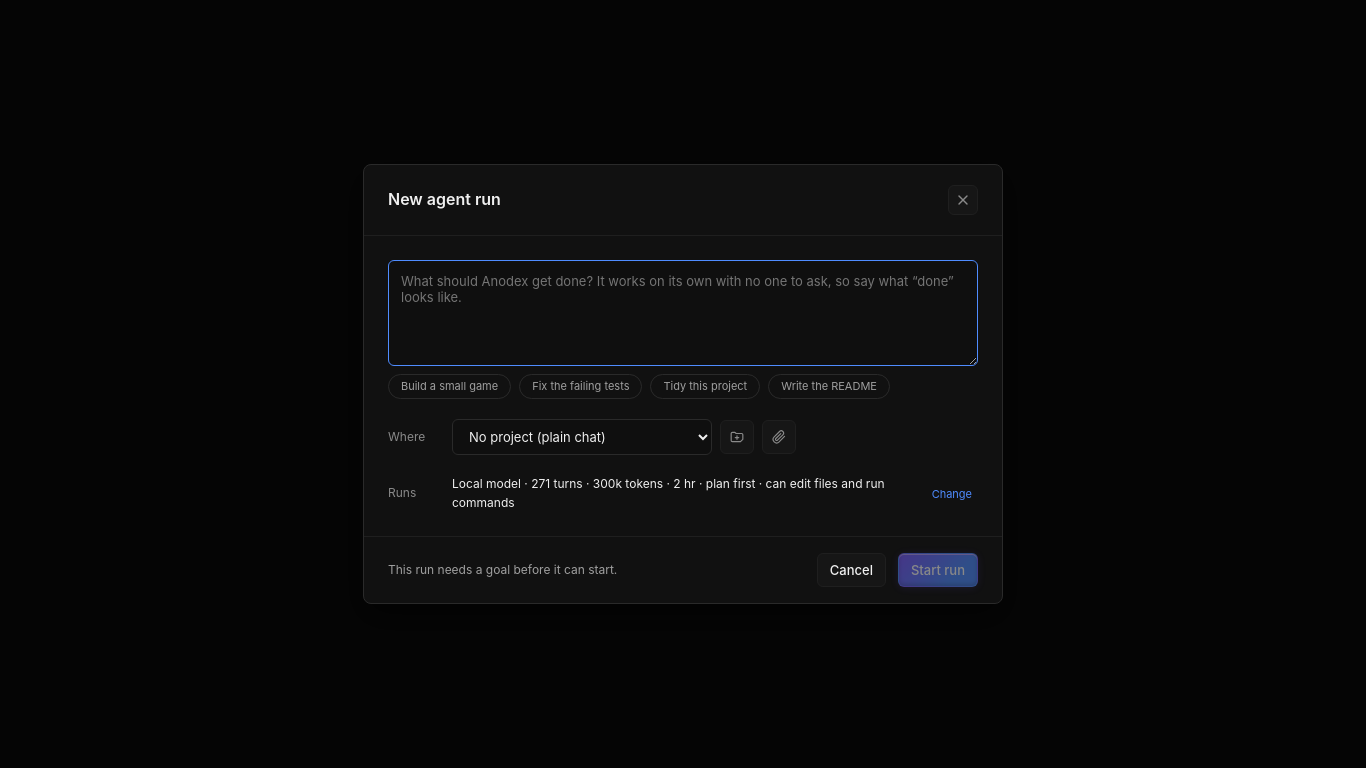
Test: why Start is unavailable › never blocks on a budget, because the sliders cannot leave range
Step 1. Click the button "Change" → (952, 494), box x1=926 y1=486 x2=978 y2=502
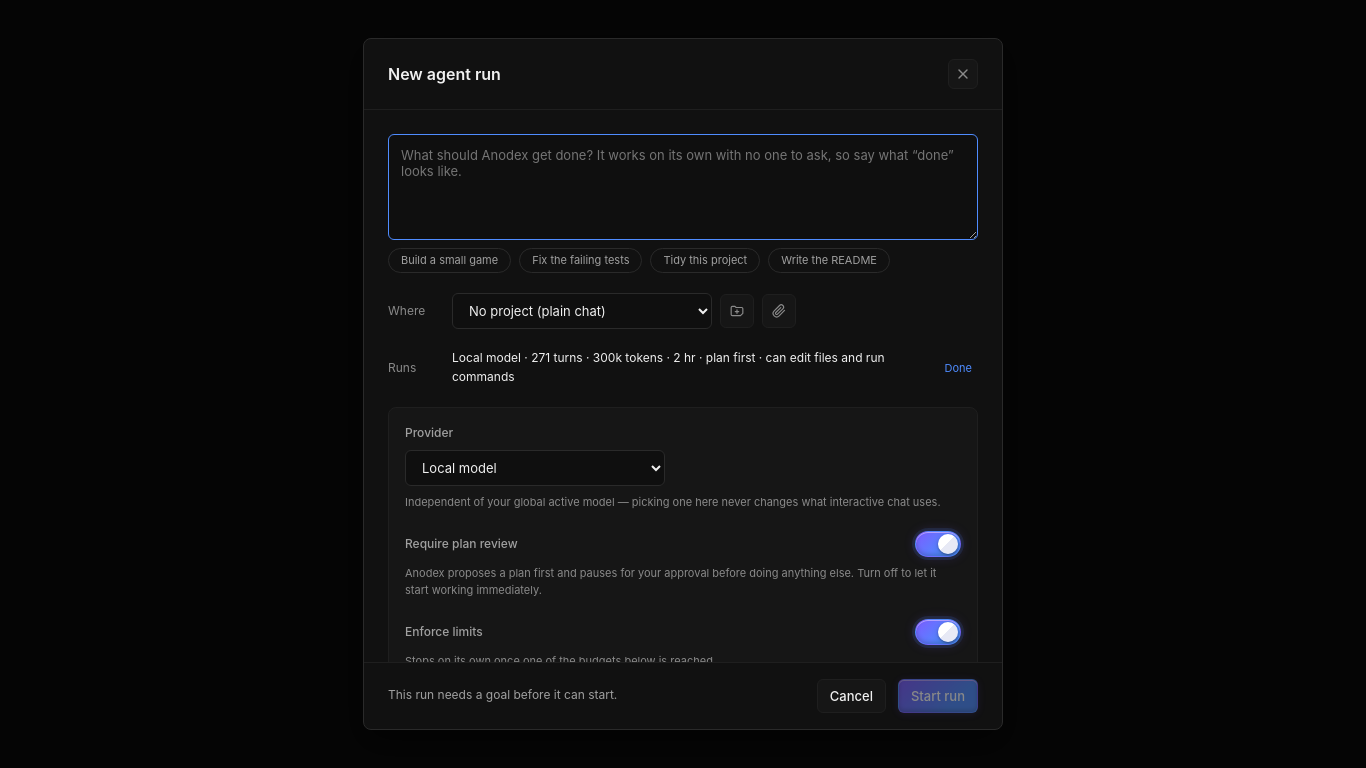
Step 2. Replace the text in the text box with placeholder "What should Anodex get done" with "Summarize the changelog" → (683, 187), box x1=388 y1=134 x2=978 y2=240
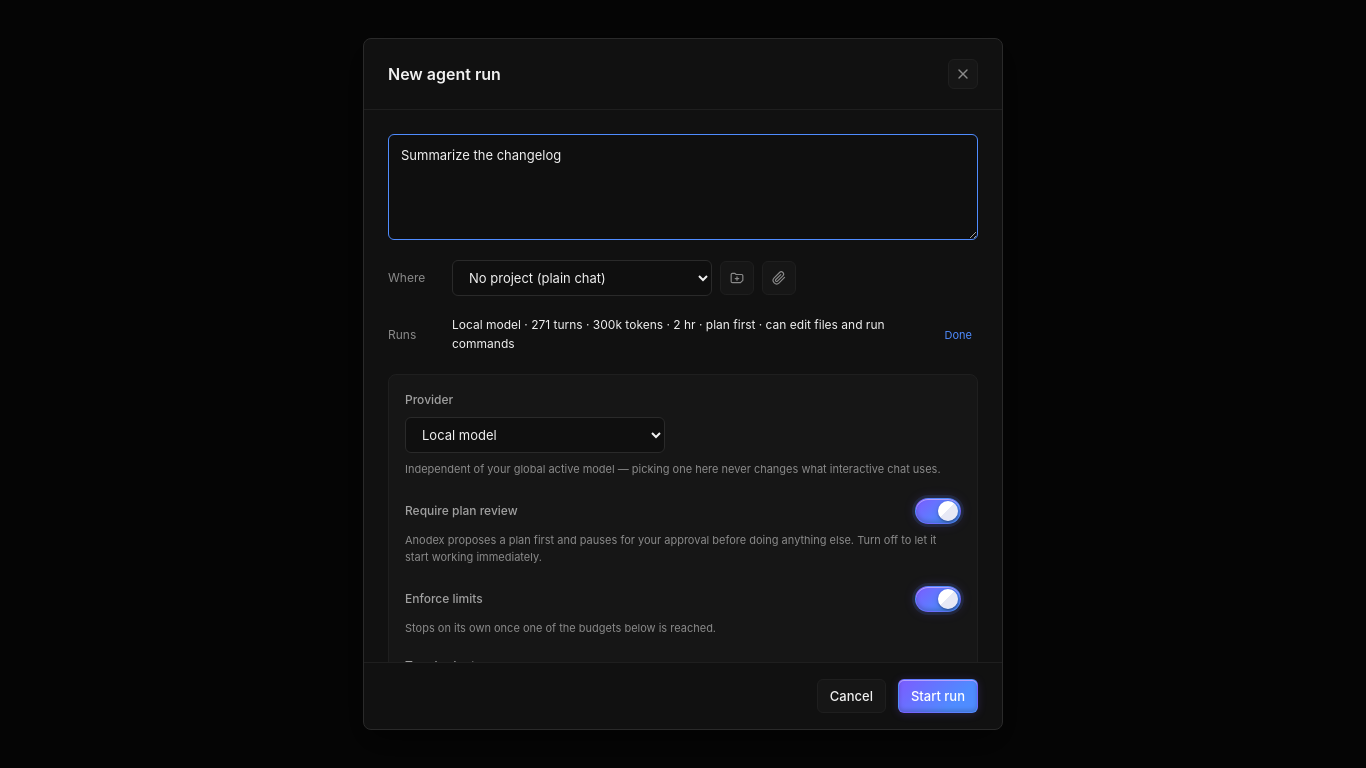
Result: the button "Start run" is enabled at x1=898 y1=679 x2=978 y2=713
